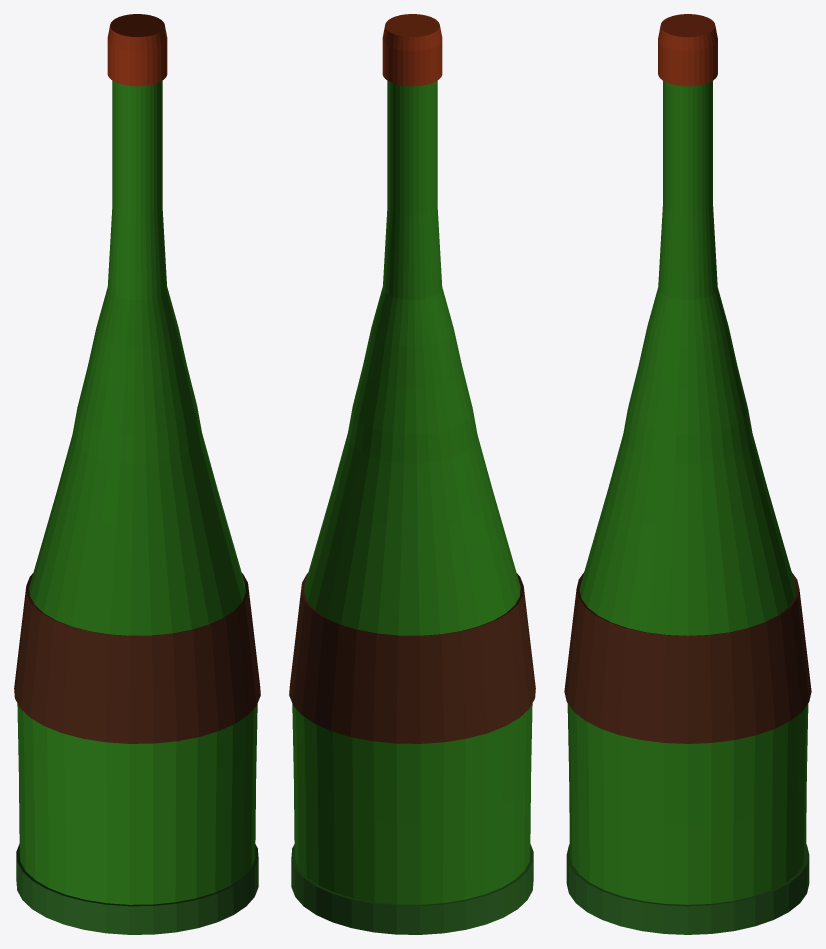
File: Bottle 12.fbx
3 views of the same model, side by side, from view 1: azimuth 30°, elevation 25°; view 2: azimuth 150°, elevation 25°; view 3: azimuth 270°, elevation 25° (orthographic).
Parts seen in each view (by area): view 1: Node 0; view 2: Node 0; view 3: Node 0.
Part boxes in pixels (<box>): Node 0: <box>14,14,260,934</box>; Node 0: <box>289,14,535,934</box>; Node 0: <box>564,14,811,934</box>.
Size of the model in its own units: 0.1972 by 0.755 by 0.1972.
